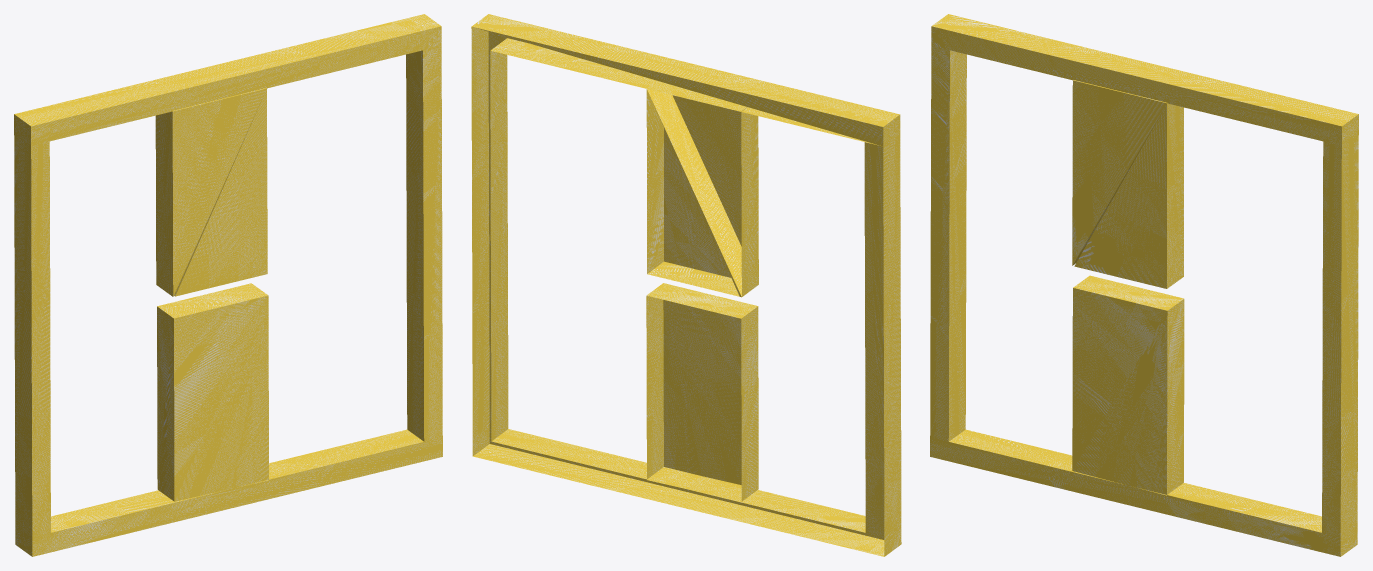
Rendered from Environment2D_H.dae.
3 renders of one model, left to right at view 1: azimuth 30°, elevation 25°; view 2: azimuth 150°, elevation 25°; view 3: azimuth 330°, elevation 25°, orthographic.
Parts seen in each view (by area): view 1: instance_1 (×2); view 2: instance_1 (×2); view 3: instance_1 (×2).
Boxes of the visible parts, left/top/right/bottom form: instance_1 (×2): left=14, top=14, right=442, bottom=556; instance_1 (×2): left=471, top=14, right=901, bottom=556; instance_1 (×2): left=930, top=14, right=1358, bottom=556.
Bounding box in the file's own units: 1.1 × 0.0847 × 1.1.
